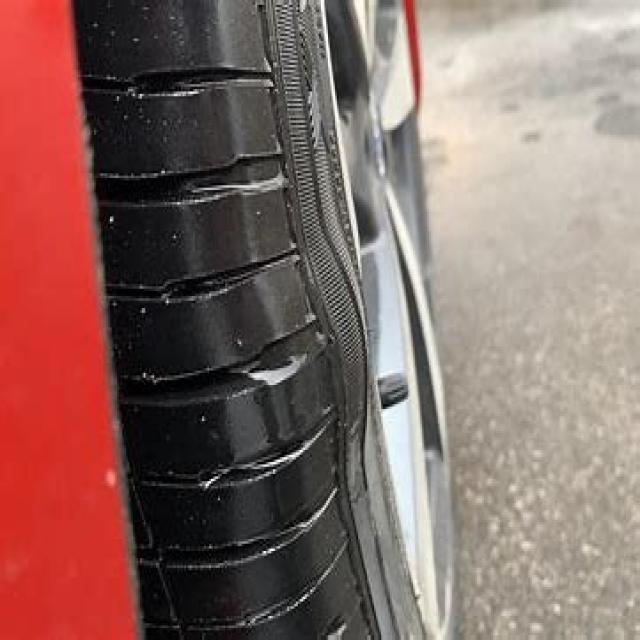Bulge: (262, 213, 384, 475)
